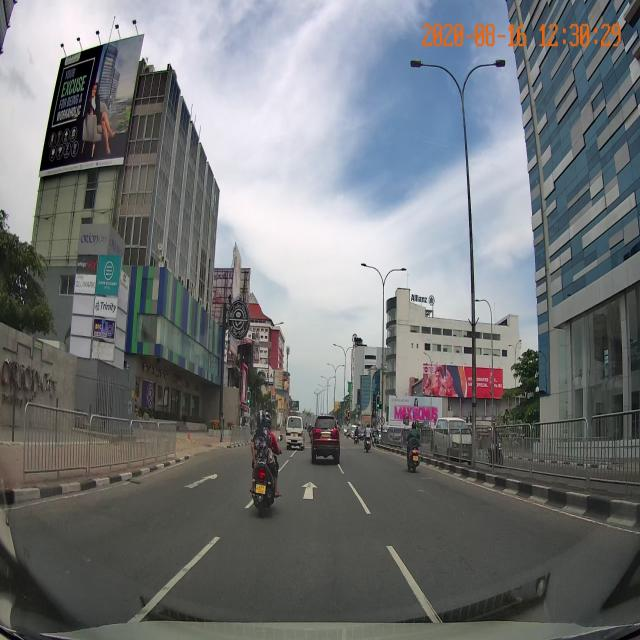Strelka vpered: (183, 474, 219, 489), (301, 481, 318, 501)
